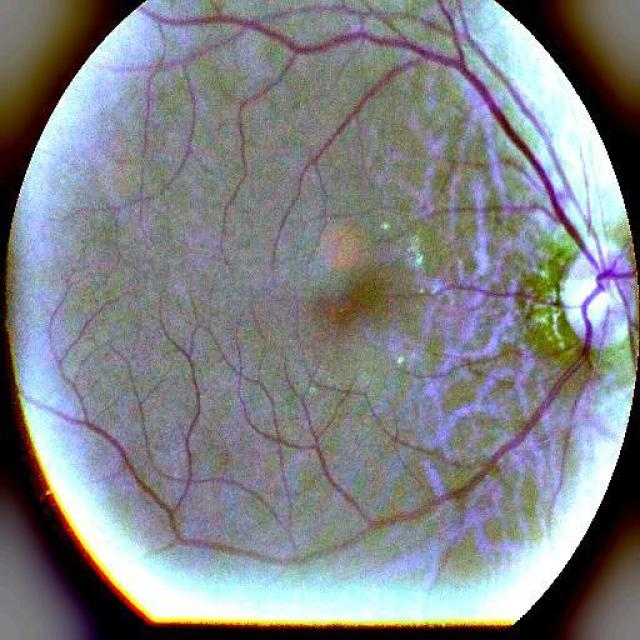Macula: (293, 267, 389, 351)
Nerves: (57, 285, 603, 573), (186, 18, 602, 282)
Optic Disk: (517, 197, 639, 395)
